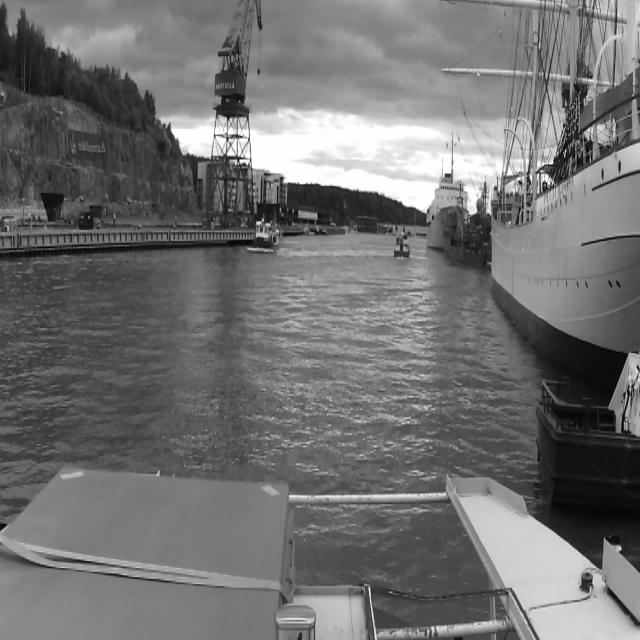ship: (438, 0, 640, 394), (443, 178, 491, 262), (426, 168, 468, 255), (251, 218, 281, 253), (393, 226, 411, 260), (312, 218, 322, 235), (304, 220, 313, 237), (322, 225, 328, 236)
